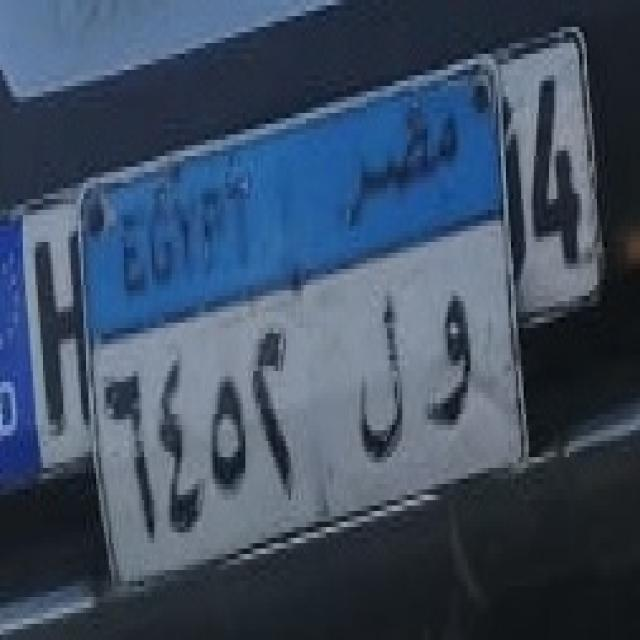2: (248, 316, 310, 506)
4: (152, 354, 210, 539)
5: (203, 368, 255, 502)
6: (100, 362, 160, 548)
Laam: (346, 292, 413, 464)
Wow: (419, 286, 482, 446)
